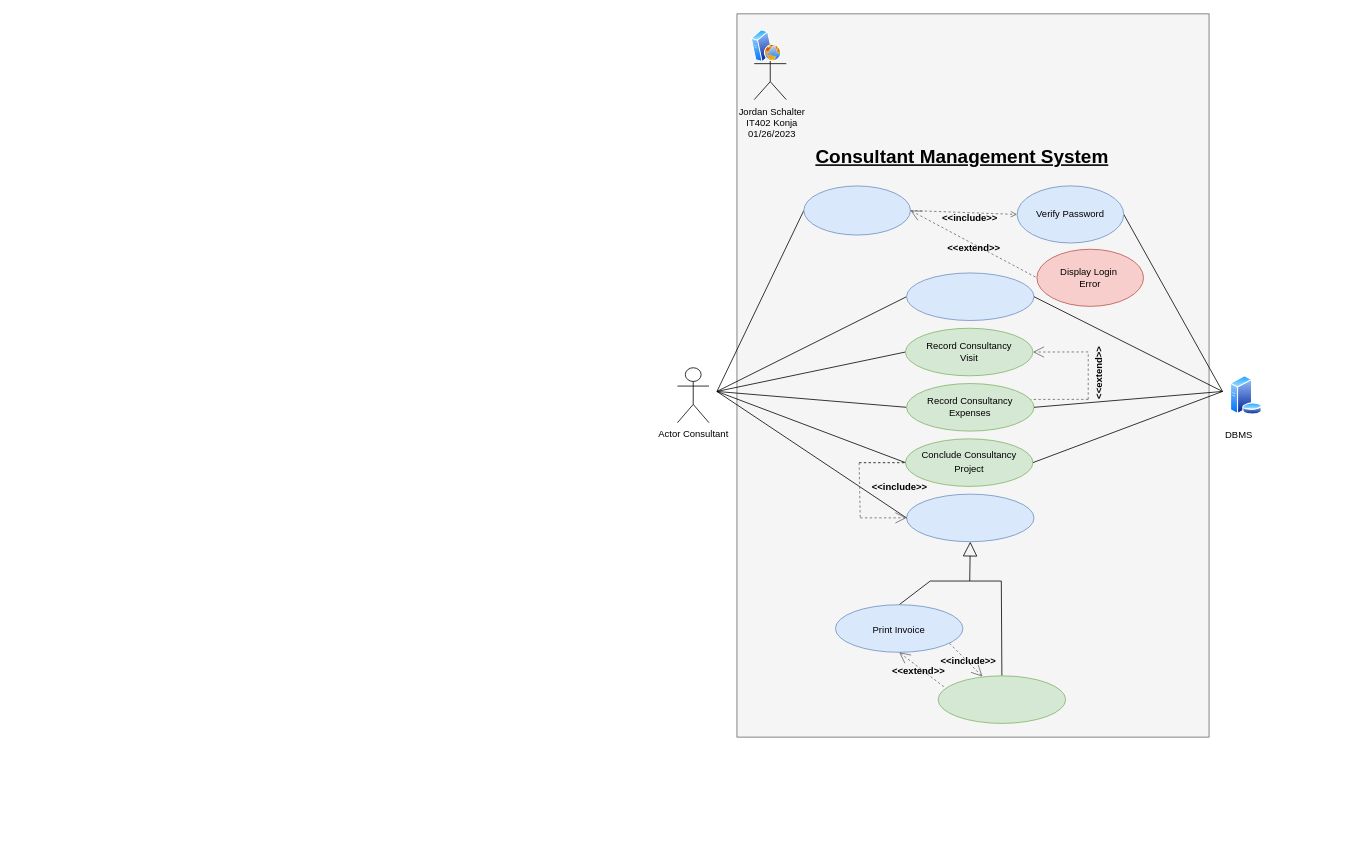
Image size: 1348x860. Some labels were removed from this diagram. Here are the shapes that lost their labels. From the top down, the centre of each, then its label:
(x=856, y=210): Login
(x=970, y=296): Initiate Consultancy Project
(x=970, y=517): Invoice Customer
(x=1001, y=699): Email Invoice
